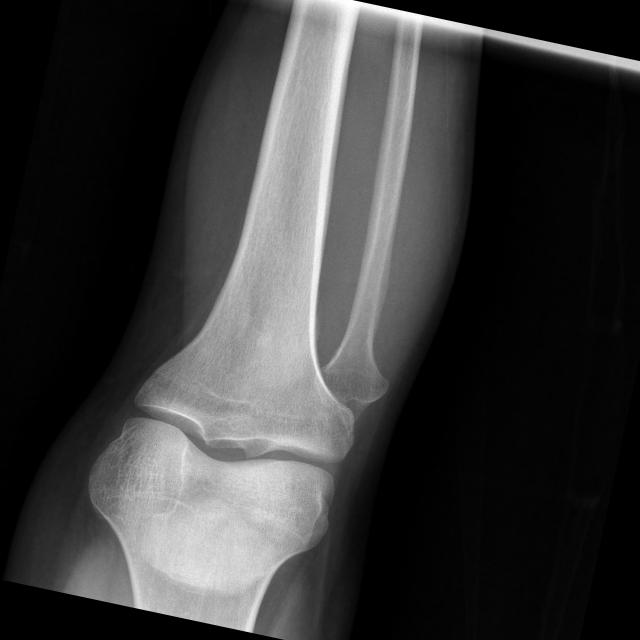Knee: (78, 342, 362, 562)
